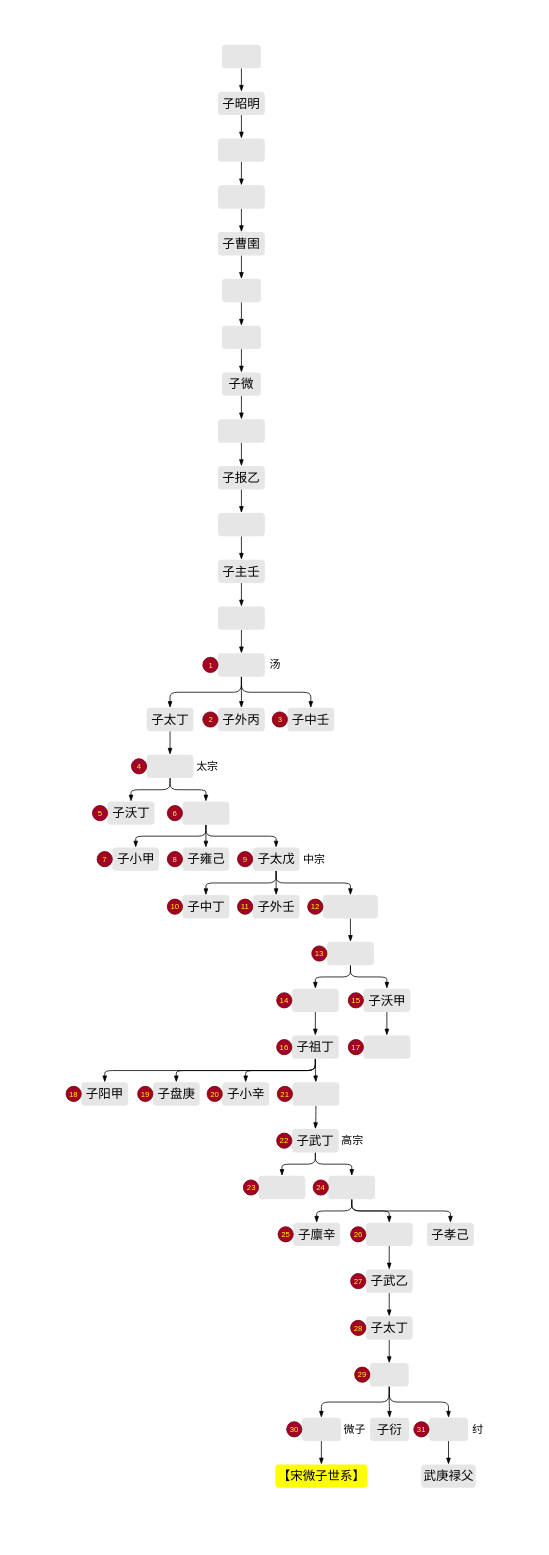
The diagram is 549 pixels wide and 1555 high, and some of its shapes have lost their labels. The shapes that lost their labels are listed below. From the top down, each one's centre as x and y in pixels, then its label:
At pixel 241 56: "子契".
At pixel 241 149: "子相土".
At pixel 241 196: "子昌若".
At pixel 241 290: "子冥".
At pixel 241 337: "子振".
At pixel 241 430: "子报丁".
At pixel 241 524: "子报丙".
At pixel 241 617: "子主癸".
At pixel 241 664: "子天乙".
At pixel 169 766: "子太甲".
At pixel 205 812: "子太庚".
At pixel 350 906: "子河亶甲".
At pixel 350 953: "子祖乙".
At pixel 315 1000: "子祖辛".
At pixel 386 1046: "子南庚".
At pixel 315 1093: "子小乙".
At pixel 281 1187: "子祖庚".
At pixel 351 1187: "子祖甲".
At pixel 388 1234: "子庚丁".
At pixel 388 1374: "子乙".
At pixel 320 1429: "子启".
At pixel 448 1429: "子辛".
